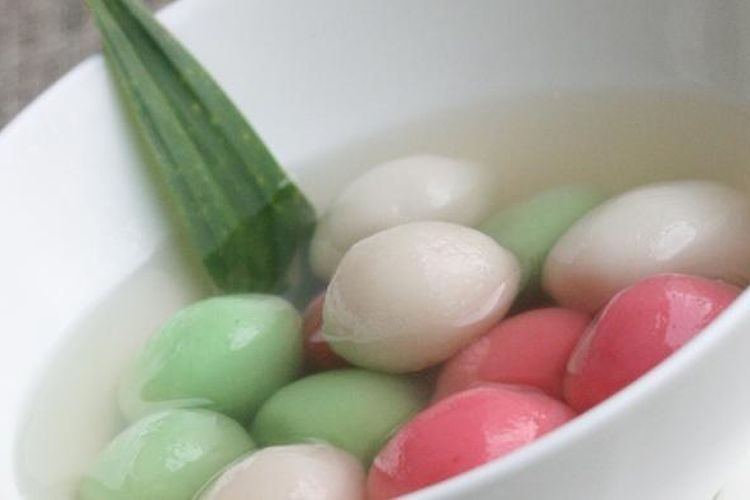ronde: (24, 134, 750, 499)
